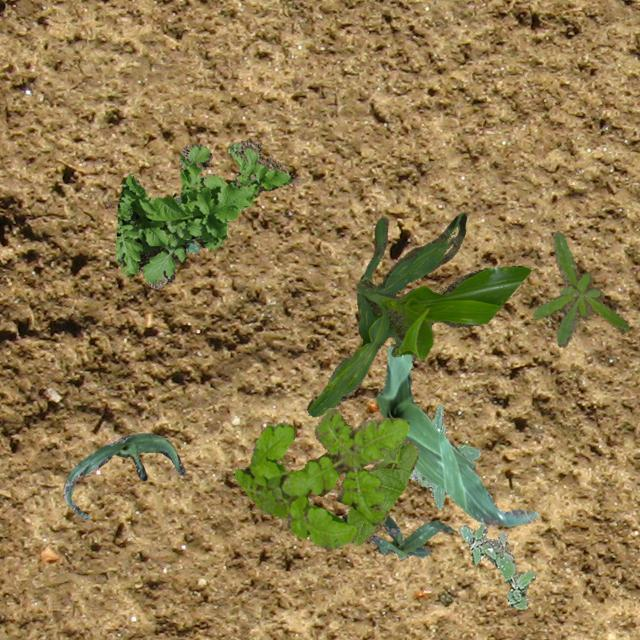crop: (306, 212, 530, 416), (376, 344, 538, 526), (62, 432, 184, 518), (408, 402, 478, 508), (346, 438, 416, 544), (342, 514, 452, 558)
weed: (114, 140, 290, 288), (234, 406, 408, 548), (532, 230, 628, 346), (458, 522, 534, 608), (174, 194, 198, 252)
